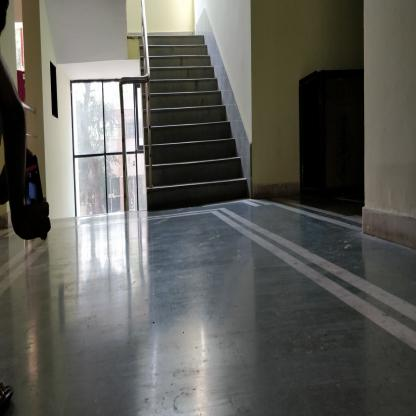stairs: (155, 34, 203, 214)
